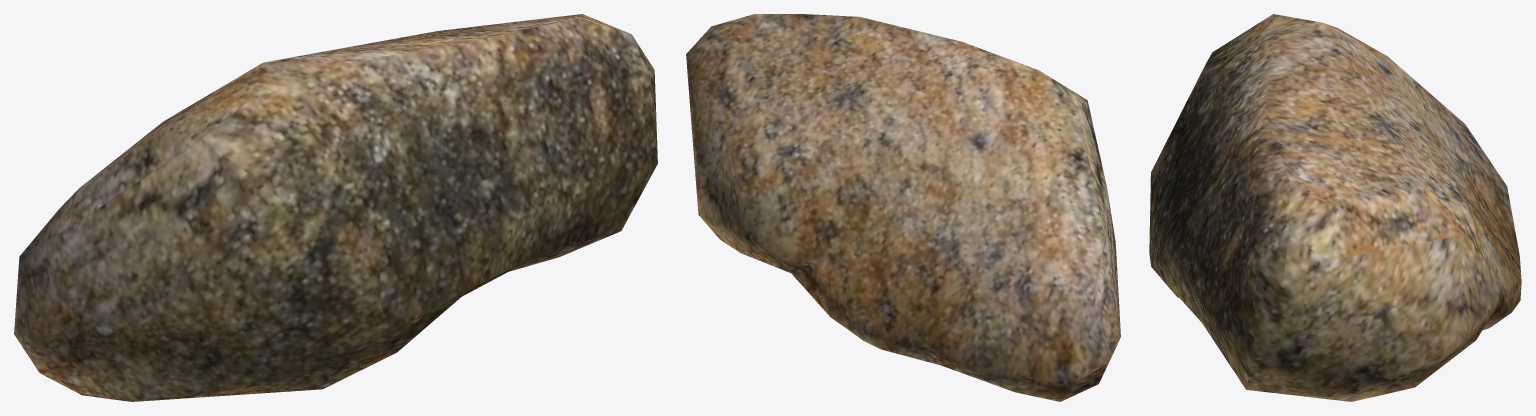
The picture shows the model from 3 angles, left to right: view 1: azimuth 30°, elevation 25°; view 2: azimuth 150°, elevation 25°; view 3: azimuth 270°, elevation 25°; orthographic projection. The views are drawn at different scales.
Parts seen in each view (by area): view 1: rock022_lod4; view 2: rock022_lod4; view 3: rock022_lod4.
Boxes of the visible parts, x1=… form: rock022_lod4: x1=14, y1=14, x2=657, y2=401; rock022_lod4: x1=686, y1=14, x2=1120, y2=401; rock022_lod4: x1=1149, y1=14, x2=1521, y2=401.
Bounding box in the file's own units: 1 × 0.5625 × 0.5763.
1 material, 1 textured.
